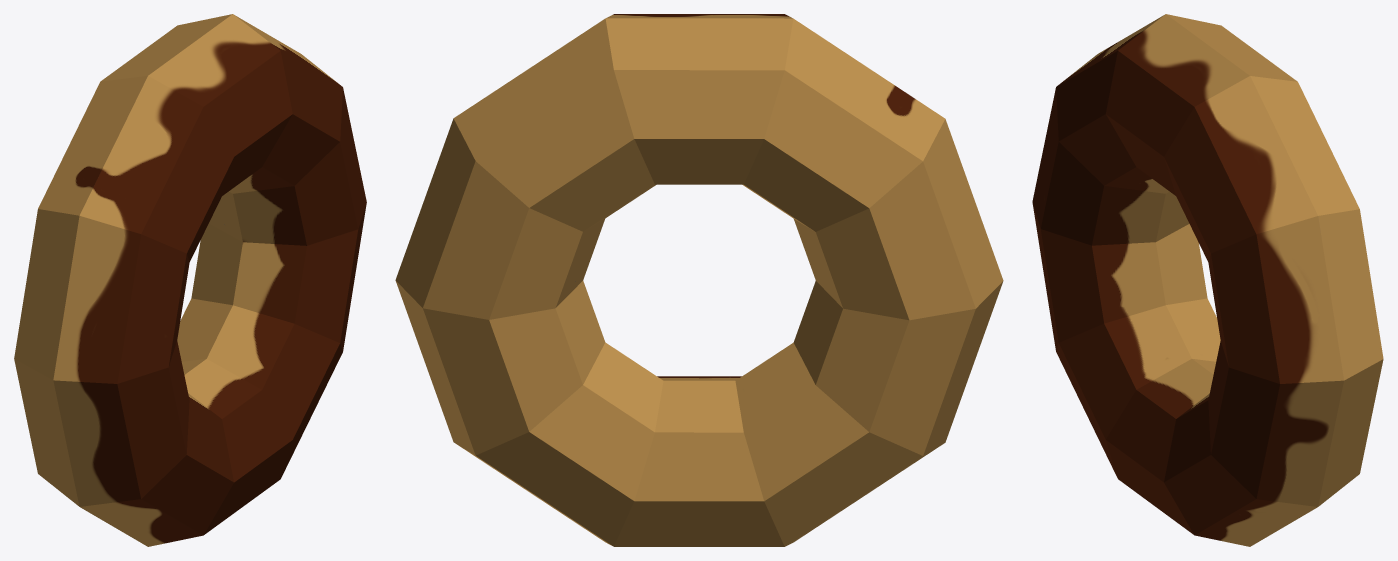
Rendered from rosquinha.fbx.
The picture shows the model from 3 angles, left to right: view 1: azimuth 30°, elevation 25°; view 2: azimuth 150°, elevation 25°; view 3: azimuth 270°, elevation 25°; orthographic projection. The views are drawn at different scales.
Visible parts, largest first — view 1: Torus_003; view 2: Torus_003; view 3: Torus_003.
Part boxes in pixels (x1,y1,x2,y2): Torus_003: [14, 14, 366, 546]; Torus_003: [395, 14, 1003, 546]; Torus_003: [1032, 14, 1383, 546].
Size of the model in its own units: 1.51 by 1.6 by 1.08.
